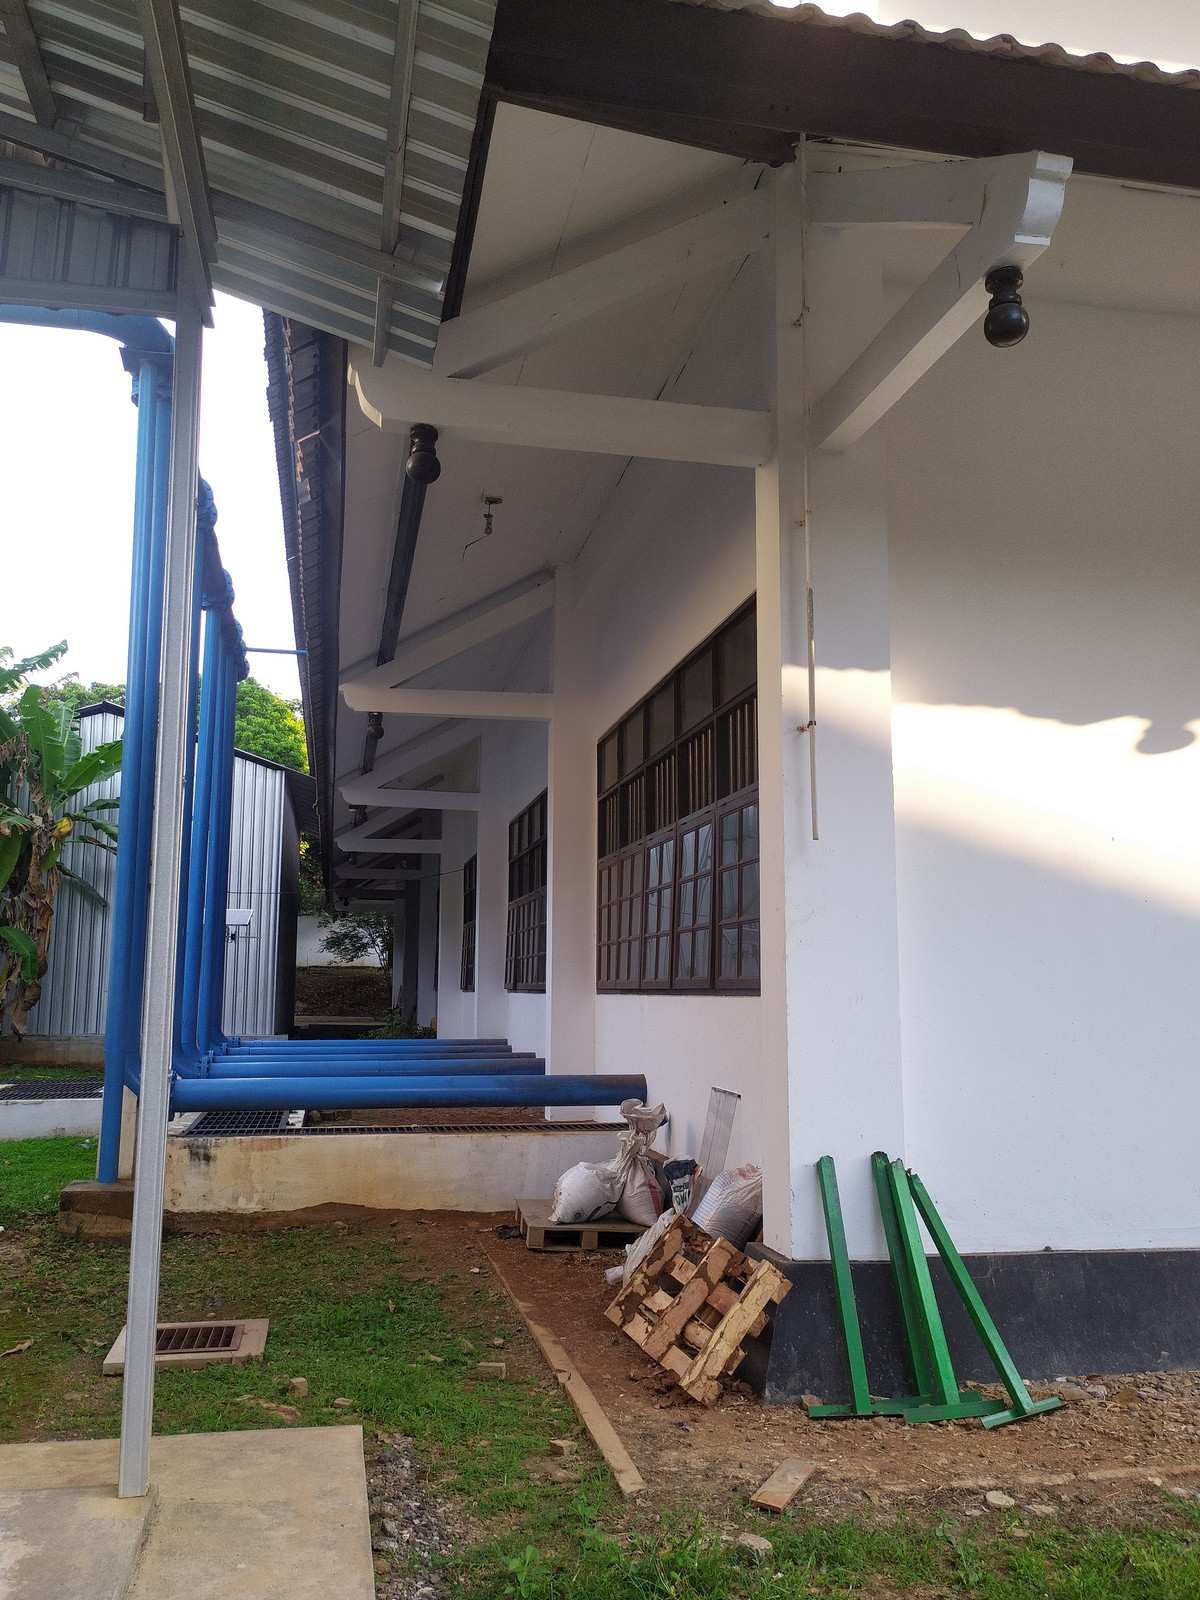concrete beam: (441, 375, 800, 488), (373, 682, 565, 729)
concrete column: (741, 168, 937, 1296), (536, 544, 603, 1125), (470, 703, 517, 1046)
